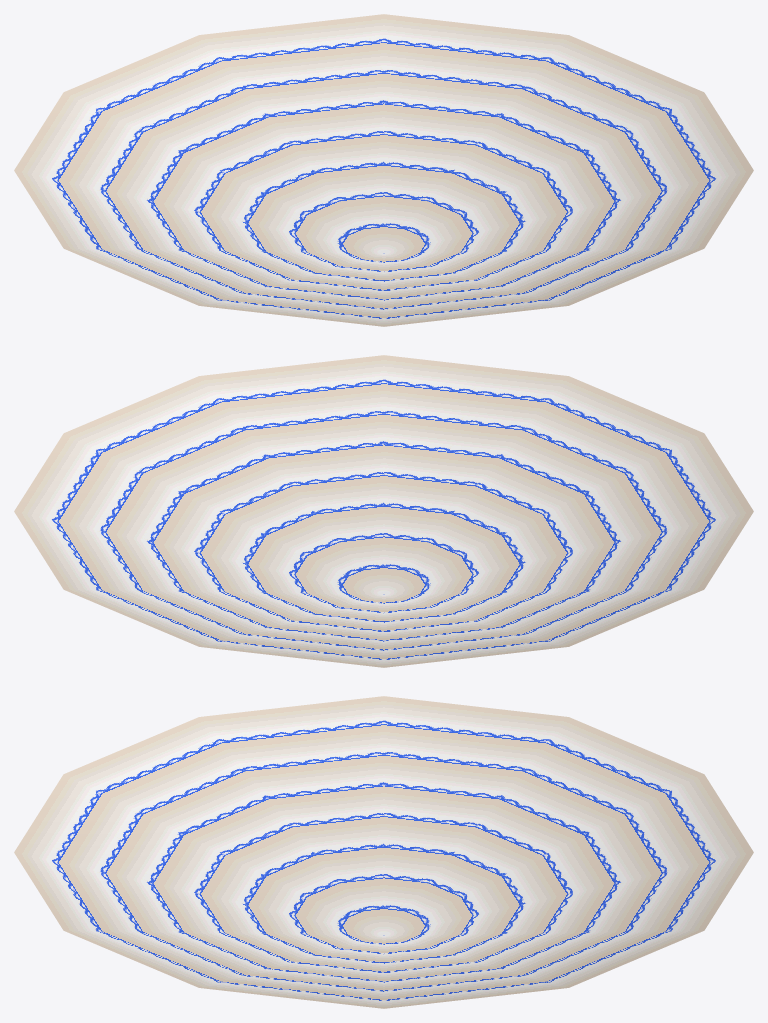
File: cake_sara.gltf
The picture shows the model from 3 angles, top to bottom: view 1: azimuth 30°, elevation 25°; view 2: azimuth 150°, elevation 25°; view 3: azimuth 270°, elevation 25°; orthographic projection.
Parts seen in each view (by area): view 1: cake_sara; view 2: cake_sara; view 3: cake_sara.
Part boxes in pixels (box(x1,y1,x2,y2)): cake_sara: box(14, 14, 753, 326); cake_sara: box(14, 355, 753, 667); cake_sara: box(14, 696, 753, 1008).
Size of the model in its own units: 0.5437 by 0.0674 by 0.5437.
Materials: 1 (1 with a texture image).
